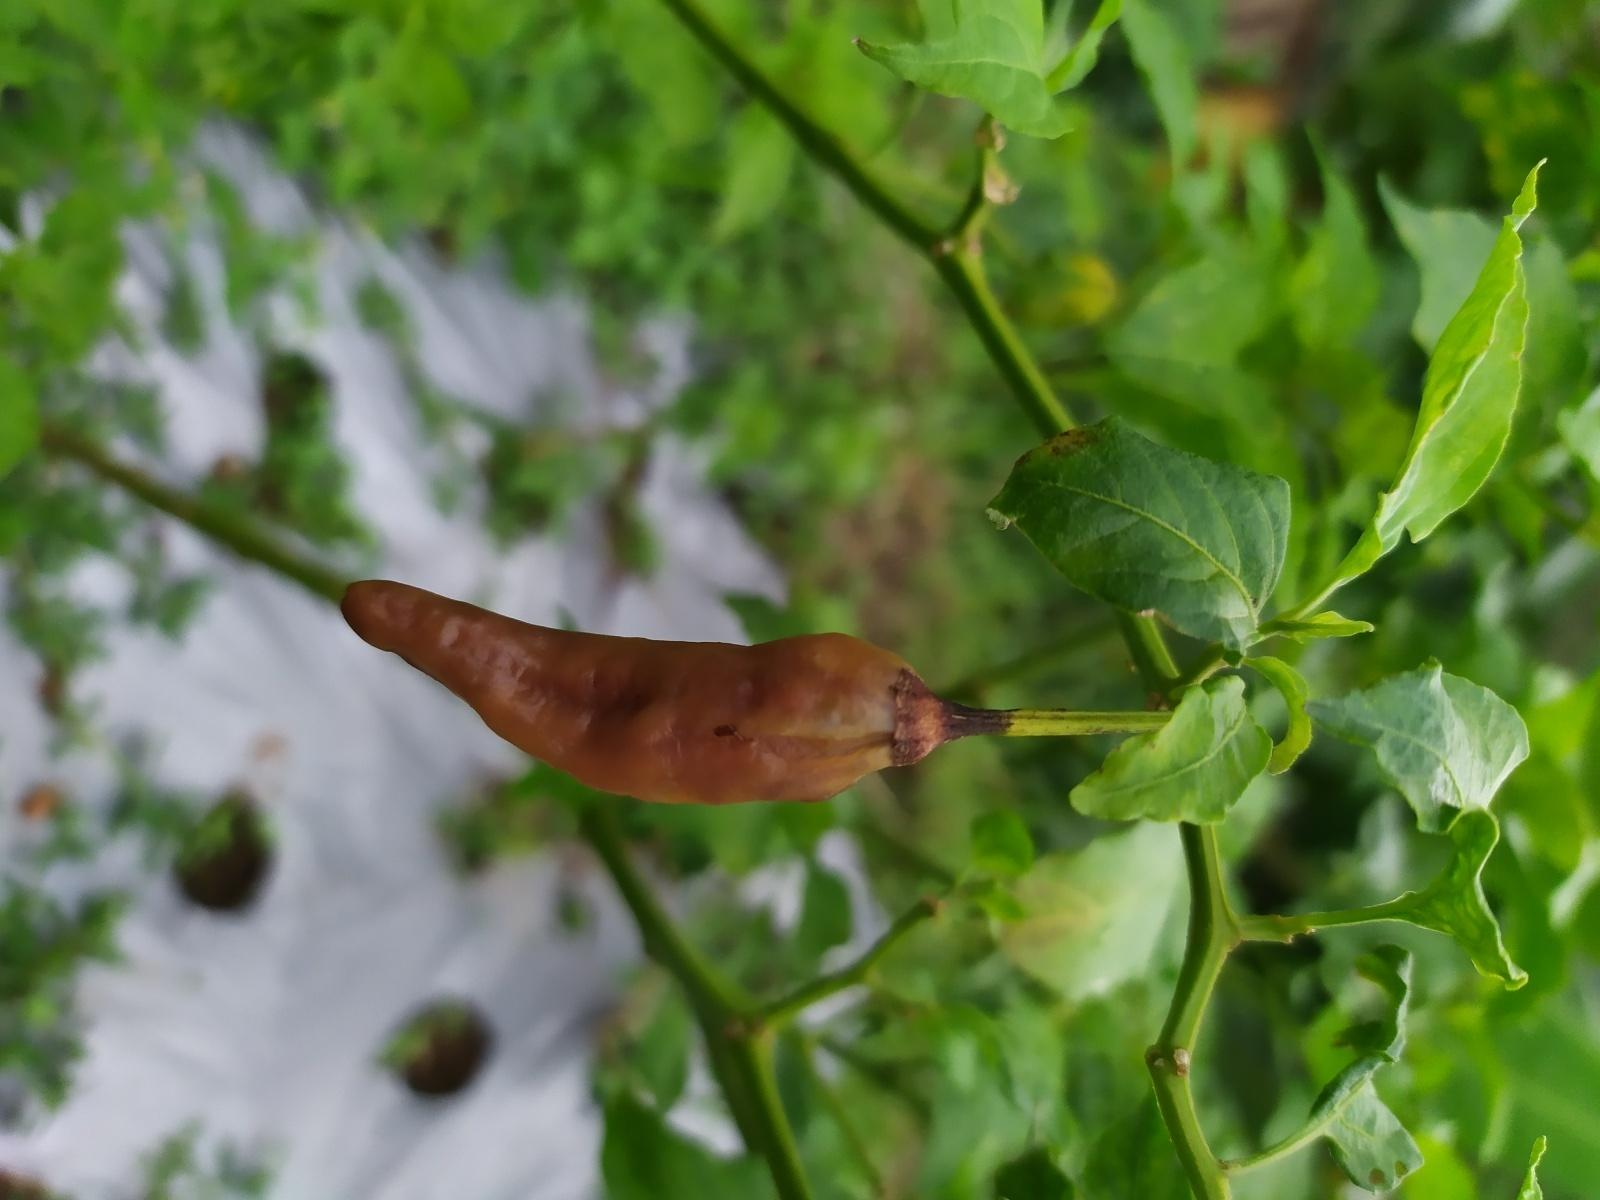lalat_buah: (336, 580, 937, 807)
